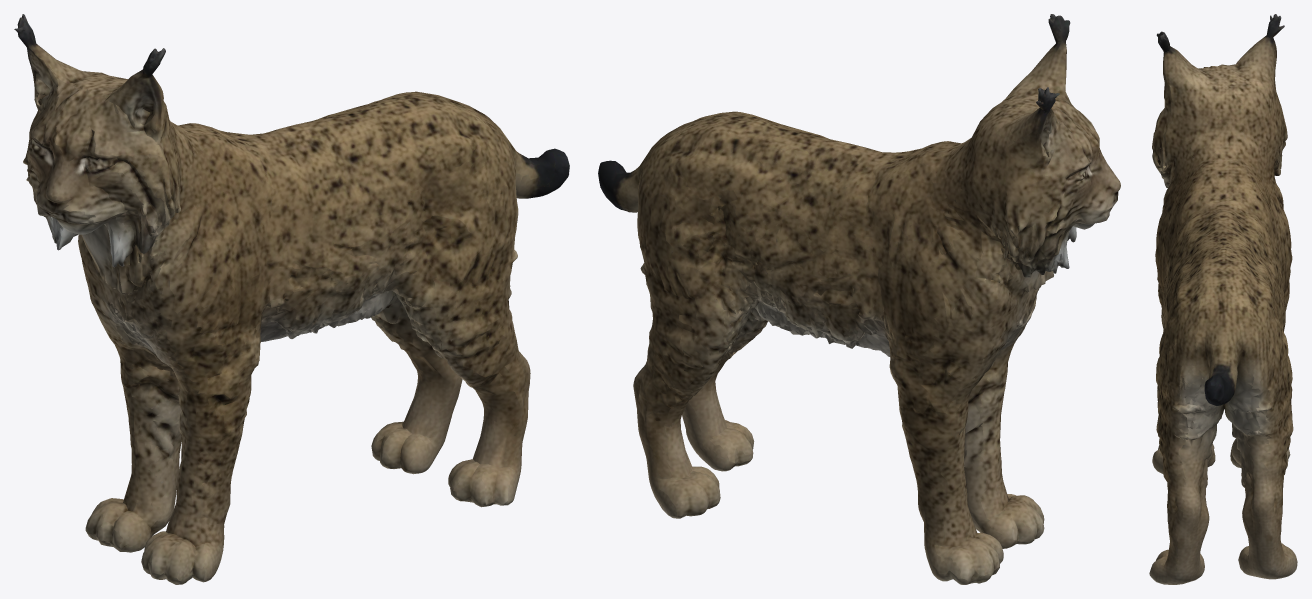
Rendered from eurasian-lynx-v21-lod.glb.
3 views of the same model, side by side, from view 1: azimuth 30°, elevation 25°; view 2: azimuth 150°, elevation 25°; view 3: azimuth 270°, elevation 25° (orthographic). The views are drawn at different scales.
Parts seen in each view (by area): view 1: geometry_0; view 2: geometry_0; view 3: geometry_0.
Boxes of the visible parts, x1,y1,x2,y2 form: geometry_0: (14, 14, 569, 584); geometry_0: (598, 14, 1120, 584); geometry_0: (1149, 14, 1297, 584).
Bounding box in the file's own units: 0.9996 × 0.9807 × 0.3109.
1 material, 1 textured.
